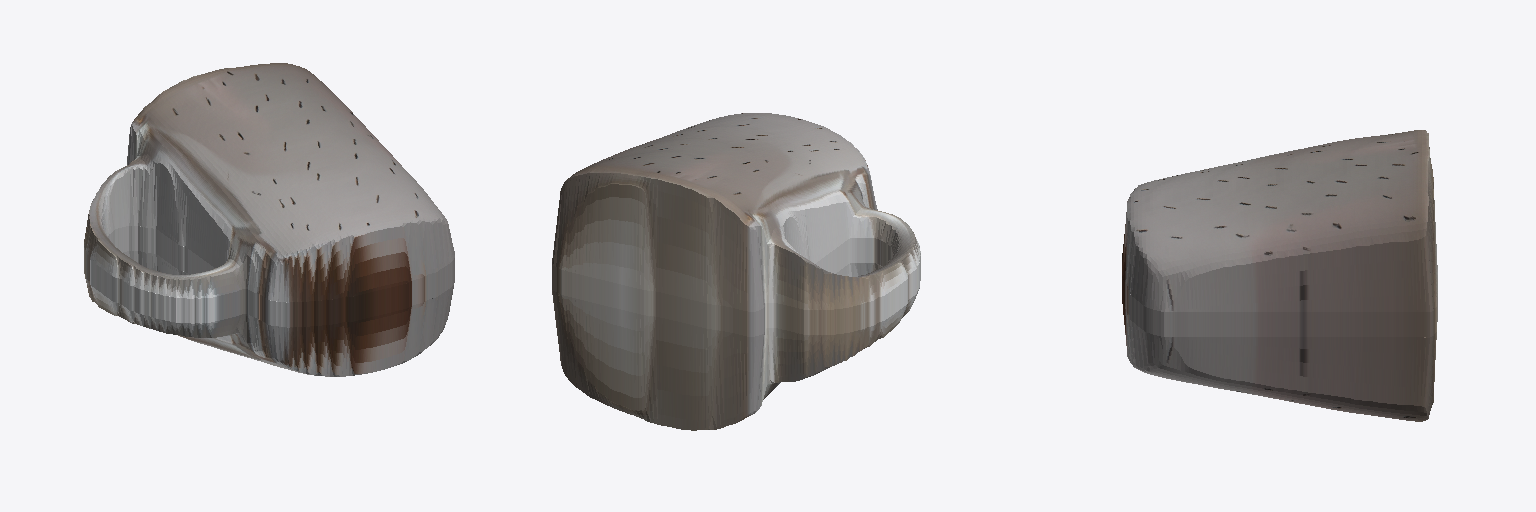
The picture shows the model from 3 angles: view 1: azimuth 30°, elevation 25°; view 2: azimuth 150°, elevation 25°; view 3: azimuth 270°, elevation 25°; orthographic projection.
Parts seen in each view (by area): view 1: Grid; view 2: Grid; view 3: Grid.
Boxes of the visible parts, x1=… form: Grid: x1=84, y1=63, x2=454, y2=376; Grid: x1=552, y1=113, x2=920, y2=430; Grid: x1=1122, y1=130, x2=1437, y2=421.
Size of the model in its own units: 1.66 by 1.39 by 1.6.
Materials: 2 (1 with a texture image).